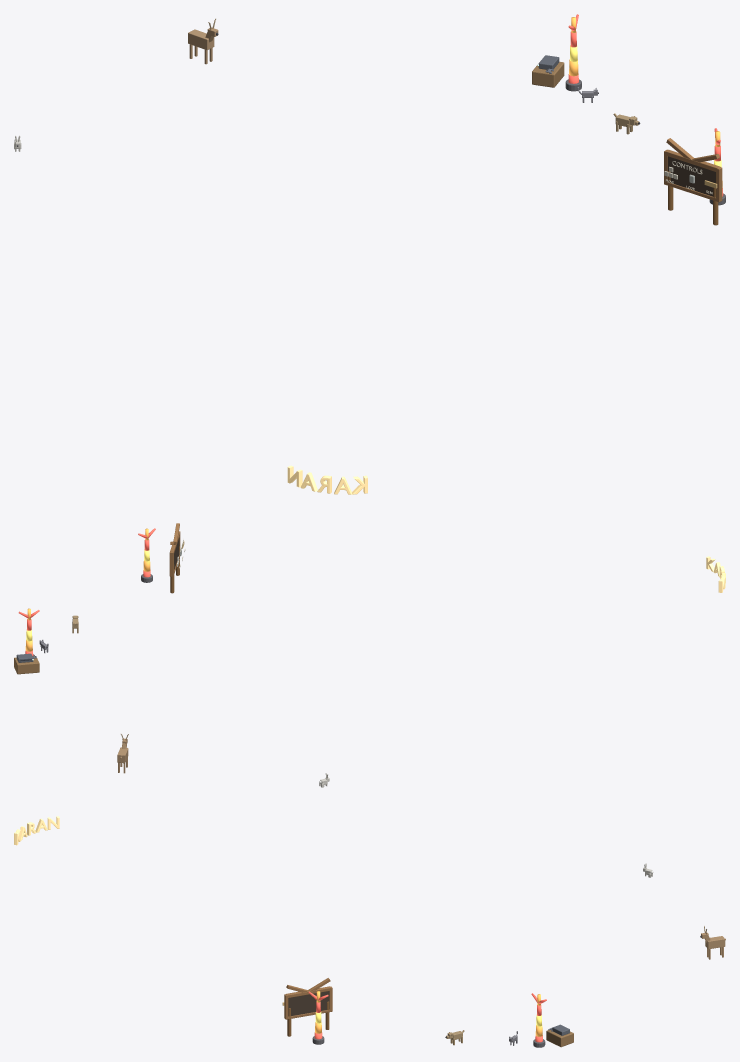
The model's file is miscFx.glb.
The picture shows the model from 3 angles, top to bottom: view 1: azimuth 30°, elevation 25°; view 2: azimuth 150°, elevation 25°; view 3: azimuth 270°, elevation 25°; orthographic projection. The views are drawn at different scales.
Visible parts, largest first — view 1: controlsBoard_panel; view 2: no part large enough to name; view 3: controlsBoard_panel.
Boxes of the visible parts, x1,y1,x2,y2 form: controlsBoard_panel: [667, 156, 715, 196]; controlsBoard_panel: [288, 991, 329, 1016].
Size of the model in its own units: 29.99 by 3.29 by 40.74.
